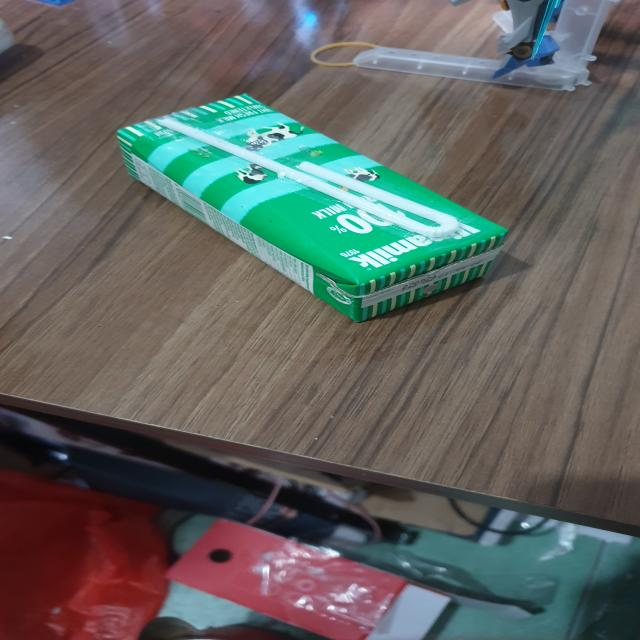Vina: (114, 91, 516, 327)
